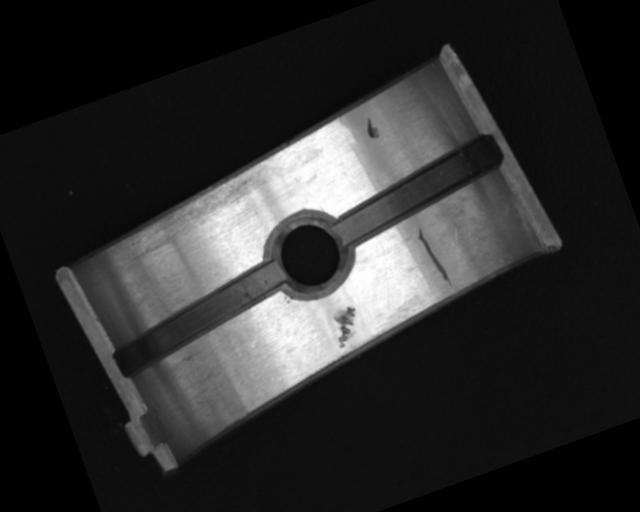bruise: (324, 303, 367, 350), (362, 114, 382, 142)
gap: (100, 256, 298, 378), (323, 133, 511, 247)
hole: (256, 198, 360, 304)
nick: (415, 222, 454, 293)
scratch: (120, 157, 286, 258)
